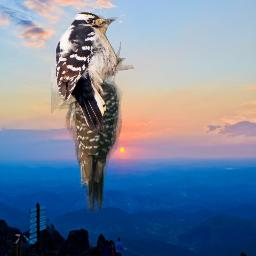Woodpecker: (55, 58, 126, 220), (51, 10, 134, 135)
